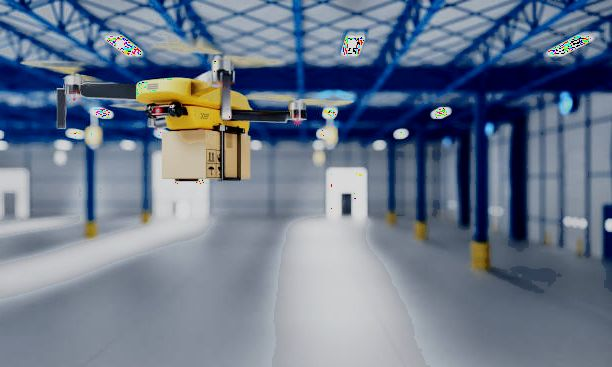Drone: (24, 48, 355, 149)
